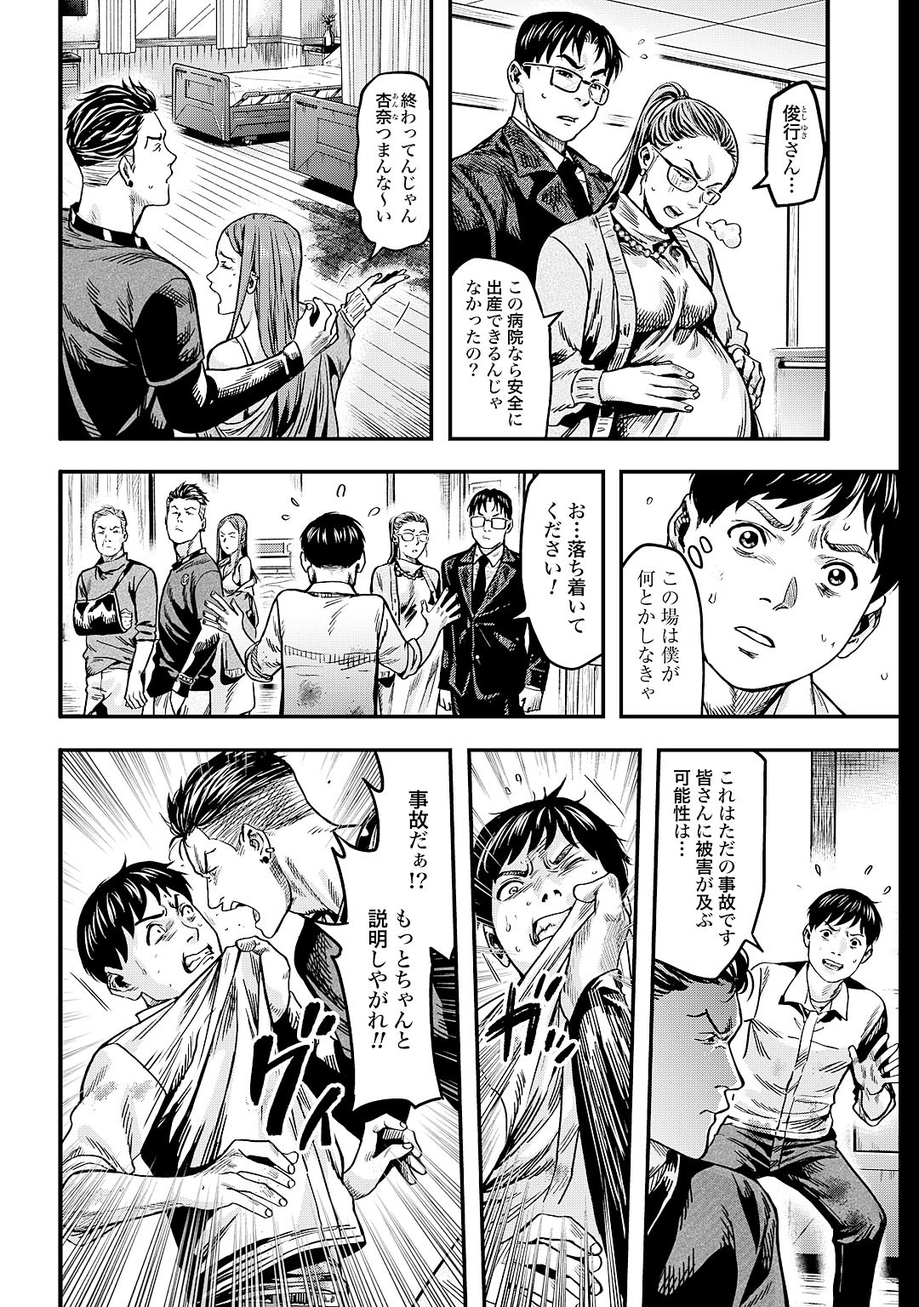bubbles: (305, 752, 459, 1117), (654, 750, 768, 984), (449, 250, 565, 441), (513, 471, 604, 676), (349, 66, 436, 265), (623, 533, 716, 715), (748, 76, 828, 218)
